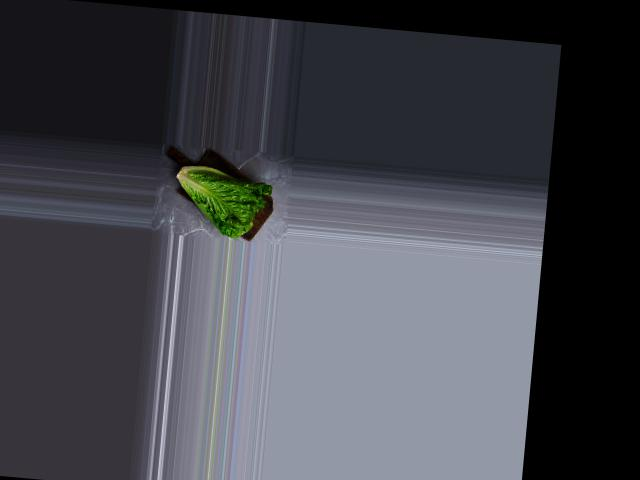lettuce: (167, 152, 274, 240)
